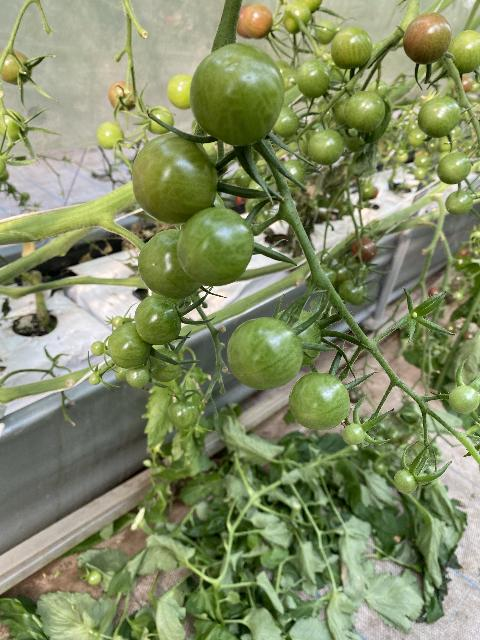l_fully_ripened: (352, 237, 377, 262)
l_green: (189, 43, 285, 146), (131, 133, 218, 225), (176, 206, 255, 286), (226, 316, 304, 390), (138, 228, 203, 300), (289, 371, 351, 430), (273, 308, 322, 368), (134, 294, 182, 345), (107, 323, 151, 368), (417, 95, 461, 138), (331, 26, 373, 69), (344, 90, 385, 132), (448, 30, 480, 74), (308, 129, 345, 165), (296, 59, 330, 98), (147, 349, 182, 382), (437, 152, 472, 184), (282, 1, 312, 33), (448, 385, 479, 414), (271, 107, 300, 137), (145, 105, 174, 134), (167, 401, 199, 427), (97, 121, 124, 149), (445, 190, 474, 215), (281, 160, 306, 188), (394, 469, 418, 495), (126, 365, 151, 388), (314, 20, 336, 44), (342, 424, 365, 445), (91, 341, 104, 356), (116, 366, 128, 381), (89, 373, 101, 385), (112, 316, 123, 328)
l_half_ripened: (403, 11, 452, 64), (243, 4, 274, 40), (108, 81, 139, 111), (167, 74, 193, 109)
